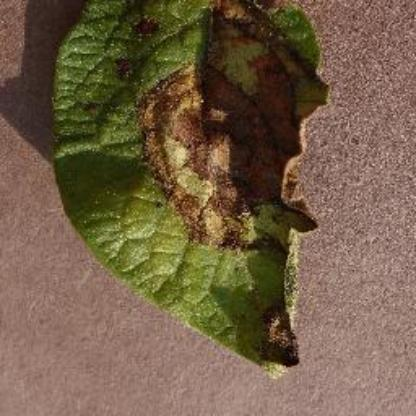Late-Blight: (50, 0, 380, 376)
